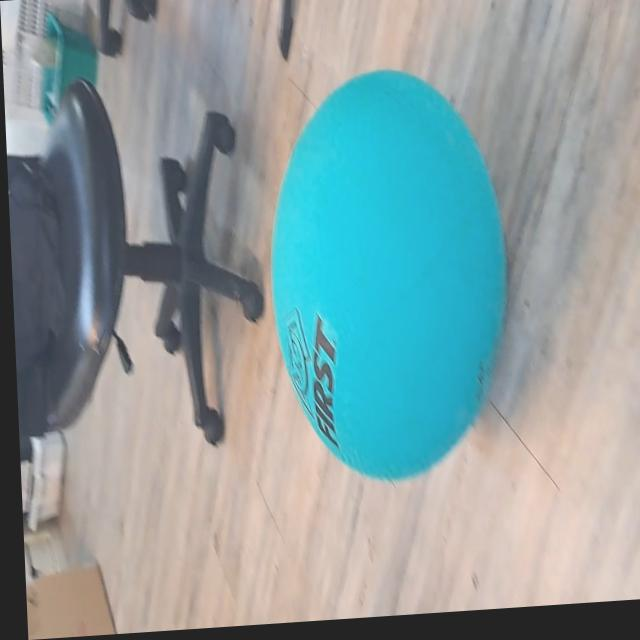ALGAE: (260, 59, 518, 492)
